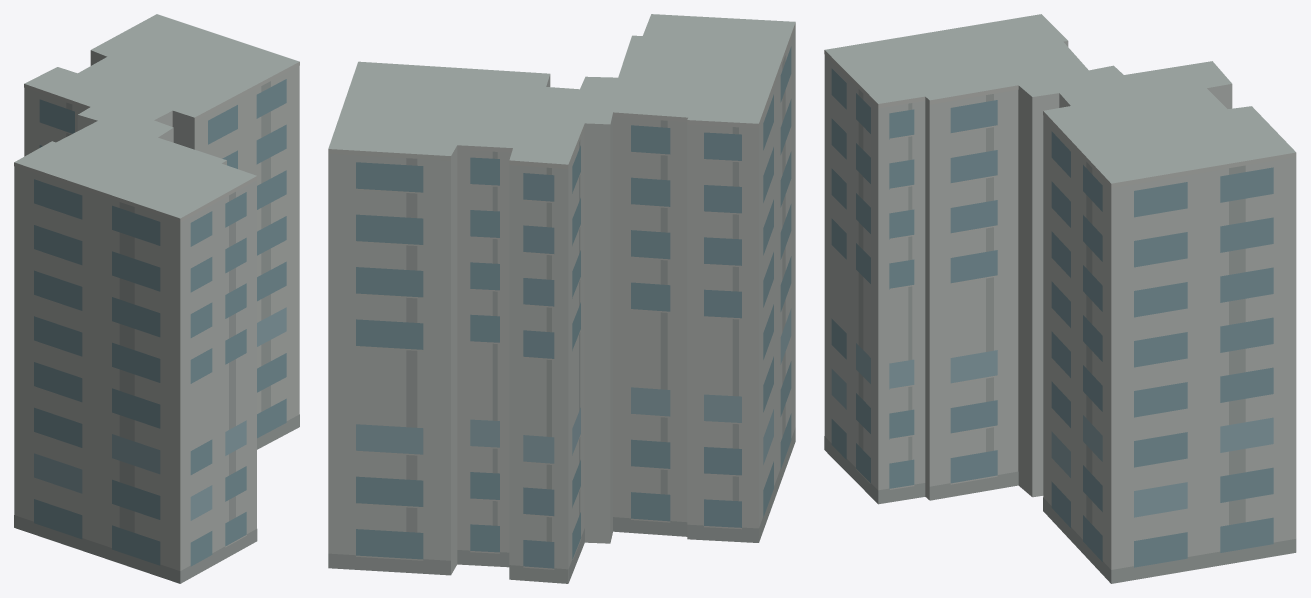
Rendered from survey-upis-32737365.glb.
The picture shows the model from 3 angles, left to right: view 1: azimuth 30°, elevation 25°; view 2: azimuth 150°, elevation 25°; view 3: azimuth 270°, elevation 25°; orthographic projection. The views are drawn at different scales.
Parts seen in each view (by area): view 1: survey-upis-32737365.tmp; view 2: survey-upis-32737365.tmp; view 3: survey-upis-32737365.tmp.
Part boxes in pixels (box(x1,y1,x2,y2)): survey-upis-32737365.tmp: box(14, 14, 299, 583); survey-upis-32737365.tmp: box(328, 14, 795, 583); survey-upis-32737365.tmp: box(824, 14, 1296, 583).
Size of the model in its own units: 20.24 by 22.25 by 23.78.
